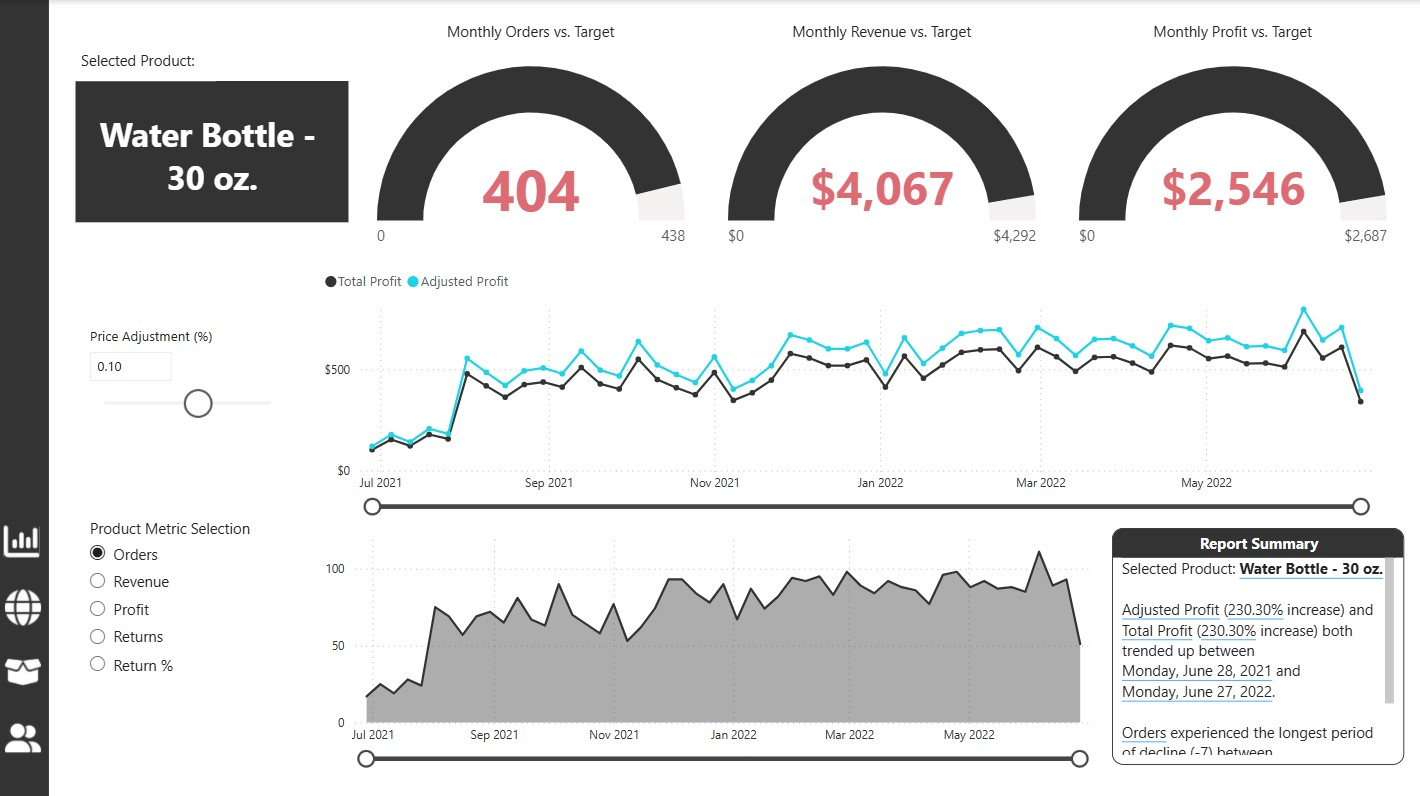

This screenshot's page, from the dashboard's own definition file:
{"tool":"powerbi","page":{"name":"Product Detail","canvas":[1280,720],"ordinal":2},"visuals":[{"type":"shape","box":[0,0,45,720.6],"z":0},{"type":"gauge","title":"Monthly Orders vs. Target","fields":{"MaxValue":["Measure Table.Order Target"],"Y":["Measure Table.Total Orders"]},"box":[335.2,18.9,287.9,229.8],"z":1000},{"type":"actionButton","box":[0,467.7,59.5,40.6],"z":1000,"group":"g1"},{"type":"gauge","title":"Monthly Profit vs. Target","fields":{"MaxValue":["Measure Table.Profit Target"],"Y":["Measure Table.Total Profit"]},"box":[967.8,18.9,287.9,229.8],"z":2000},{"type":"actionButton","box":[1.4,527.2,59.5,40.6],"z":2000,"group":"g1"},{"type":"gauge","title":"Monthly Revenue vs. Target","fields":{"MaxValue":["Measure Table.Revenue Target"],"Y":["Measure Table.Total Revenue"]},"box":[651.5,18.9,287.9,229.8],"z":3000},{"type":"actionButton","box":[1.4,585.3,59.5,40.6],"z":3000,"group":"g1"},{"type":"lineChart","title":"Profit Trending","fields":{"Category":["Calendar Lookup.Date Hierarchy.Start of Year","Calendar Lookup.Date Hierarchy.Start of Month","Calendar Lookup.Date Hierarchy.Start of Week","Calendar Lookup.Date Hierarchy.Date"],"Y":["Measure Table.Total Profit","Measure Table.Adjusted Profit"]},"box":[287.9,233.8,967.8,233.8],"z":4000},{"type":"actionButton","box":[1.4,644.8,59.5,40.6],"z":4000,"group":"g1"},{"type":"areaChart","title":"Return Trending","fields":{"Category":["Calendar Lookup.Date Hierarchy.Start of Year","Calendar Lookup.Date Hierarchy.Start of Month","Calendar Lookup.Date Hierarchy.Start of Week","Calendar Lookup.Date Hierarchy.Date"],"Y":["Measure Table.Total Orders"]},"box":[287.9,470.4,715.1,224.4],"z":5000},{"type":"card","fields":{"Values":["Min(Product Lookup.ProductName)"]},"box":[68.9,73.3,246,127.1],"z":6000},{"type":"textbox","box":[68.9,39.6,125.7,33.8],"z":7000},{"type":"group","id":"g1","title":"Navigations Buttons","box":[0,467.7,60.8,217.6],"z":8000},{"type":"slicer","fields":{"Values":["Price Adjustment (%).Price Adjustment (%)"]},"box":[68.9,289.3,198.7,123],"z":9000},{"type":"slicer","fields":{"Values":["Product Metric Selection.Product Metric Selection"]},"box":[68.9,460.9,219,233.8],"z":10000},{"type":"textbox","title":"Report Summary","box":[1003,475.8,263.6,213.6],"z":11000}]}

Visuals, with their boxes on the page's 1280x720 design canvas (x1, y1, x2, y2). These are canvas units, not pixel positions in the 1420x796 screenshot, which may show the page scaled, cropped or inside an application window:
shape: {"x1": 0, "y1": 0, "x2": 45, "y2": 721}
"Monthly Orders vs. Target" gauge: {"x1": 335, "y1": 19, "x2": 623, "y2": 249}
actionButton: {"x1": 0, "y1": 468, "x2": 60, "y2": 508}
"Monthly Profit vs. Target" gauge: {"x1": 968, "y1": 19, "x2": 1256, "y2": 249}
actionButton: {"x1": 1, "y1": 527, "x2": 61, "y2": 568}
"Monthly Revenue vs. Target" gauge: {"x1": 652, "y1": 19, "x2": 939, "y2": 249}
actionButton: {"x1": 1, "y1": 585, "x2": 61, "y2": 626}
"Profit Trending" lineChart: {"x1": 288, "y1": 234, "x2": 1256, "y2": 468}
actionButton: {"x1": 1, "y1": 645, "x2": 61, "y2": 685}
"Return Trending" areaChart: {"x1": 288, "y1": 470, "x2": 1003, "y2": 695}
card - Min(Product Lookup.ProductName): {"x1": 69, "y1": 73, "x2": 315, "y2": 200}
textbox: {"x1": 69, "y1": 40, "x2": 195, "y2": 73}
"Navigations Buttons" group: {"x1": 0, "y1": 468, "x2": 61, "y2": 685}
slicer - Price Adjustment (%).Price Adjustment (%): {"x1": 69, "y1": 289, "x2": 268, "y2": 412}
slicer - Product Metric Selection.Product Metric Selection: {"x1": 69, "y1": 461, "x2": 288, "y2": 695}
"Report Summary" textbox: {"x1": 1003, "y1": 476, "x2": 1267, "y2": 689}
